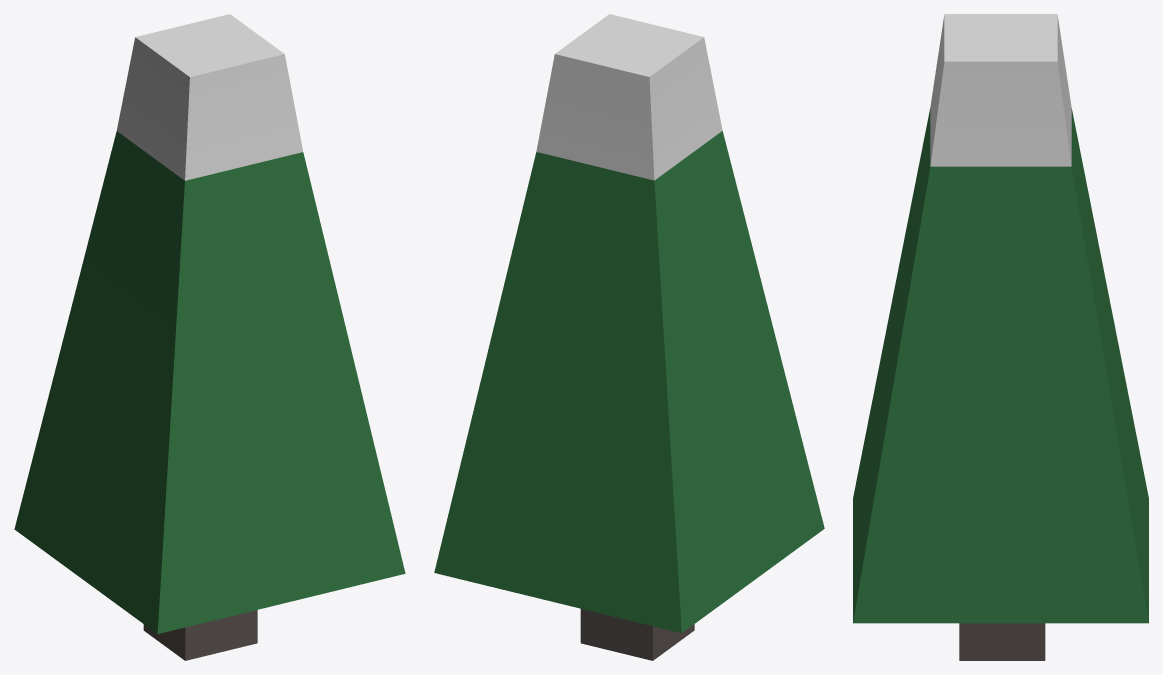
Rendered from PineTree.fbx.
The picture shows the model from 3 angles, left to right: view 1: azimuth 30°, elevation 25°; view 2: azimuth 150°, elevation 25°; view 3: azimuth 270°, elevation 25°; orthographic projection. The views are drawn at different scales.
Visible parts, largest first — view 1: pCube112; view 2: pCube112; view 3: pCube112.
Boxes of the visible parts, x1=… form: pCube112: x1=14, y1=14, x2=405, y2=660; pCube112: x1=434, y1=14, x2=824, y2=660; pCube112: x1=853, y1=14, x2=1148, y2=660.
Bounding box in the file's own units: 6.3 × 14.31 × 6.3.
